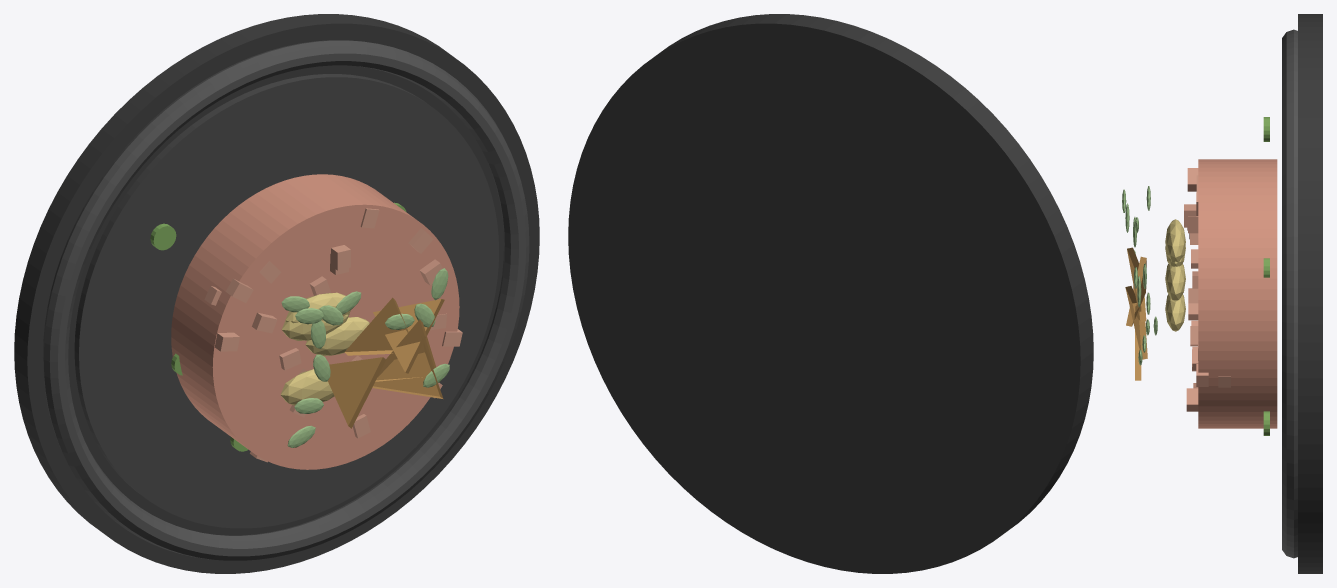
File: 02_label_rouge_salmon_tartare.glb
The picture shows the model from 3 angles, left to right: view 1: azimuth 30°, elevation 25°; view 2: azimuth 150°, elevation 25°; view 3: azimuth 270°, elevation 25°; orthographic projection. The views are drawn at different scales.
Visible parts, largest first — view 1: plate_surface, shaped_salmon_tartare, plate_base, plate_rim, buckwheat_chip_4, buckwheat_chip_0, buckwheat_chip_2, buckwheat_chip_1, citrus_confit_0, citrus_confit_3, buckwheat_chip_3; view 2: plate_base; view 3: shaped_salmon_tartare, plate_base, plate_rim, citrus_confit_2, citrus_confit_3, citrus_confit_0, buckwheat_chip_3, buckwheat_chip_2, buckwheat_chip_1, salmon_dice_15, buckwheat_chip_0.
Boxes of the visible parts, <box> form: plate_surface: <box>74,74,498,528</box>; shaped_salmon_tartare: <box>171,174,459,469</box>; plate_base: <box>14,14,539,573</box>; plate_rim: <box>42,40,529,560</box>; buckwheat_chip_4: <box>328,357,385,428</box>; buckwheat_chip_0: <box>372,336,443,398</box>; buckwheat_chip_2: <box>344,297,408,355</box>; buckwheat_chip_1: <box>373,299,444,373</box>; citrus_confit_0: <box>280,369,334,405</box>; citrus_confit_3: <box>305,317,369,355</box>; buckwheat_chip_3: <box>375,319,436,381</box>; plate_base: <box>568,14,1093,573</box>; shaped_salmon_tartare: <box>1198,159,1277,428</box>; plate_base: <box>1298,14,1322,573</box>; plate_rim: <box>1282,29,1297,558</box>; citrus_confit_2: <box>1165,219,1185,262</box>; citrus_confit_3: <box>1165,264,1185,301</box>; citrus_confit_0: <box>1165,294,1185,331</box>; buckwheat_chip_3: <box>1125,286,1147,359</box>; buckwheat_chip_2: <box>1127,247,1146,321</box>; buckwheat_chip_1: <box>1126,256,1146,326</box>; salmon_dice_15: <box>1186,388,1198,411</box>; buckwheat_chip_0: <box>1135,306,1141,380</box>.
Size of the model in its own units: 0.27 by 0.27 by 0.0968.
